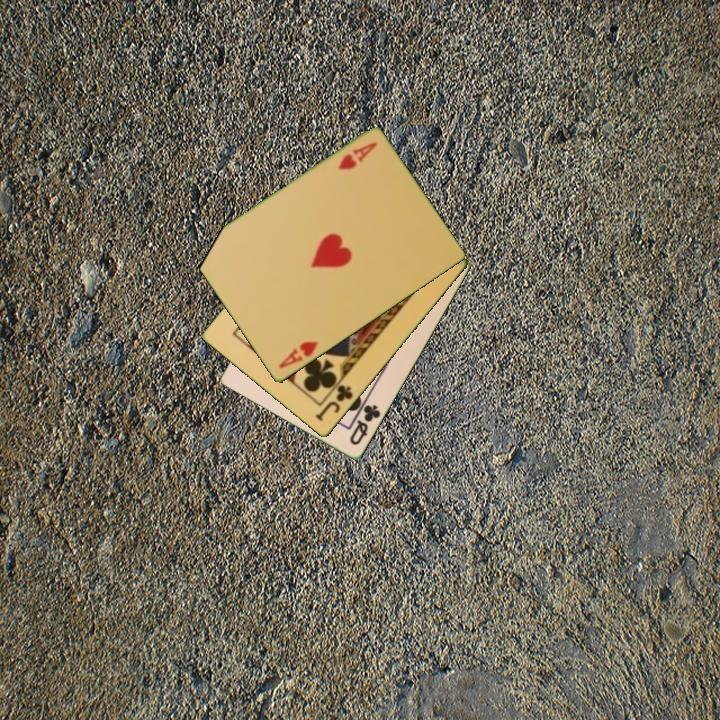Ah: (275, 338, 321, 372), (335, 139, 380, 173)
Jc: (312, 381, 356, 425)
Qc: (346, 401, 384, 449)
